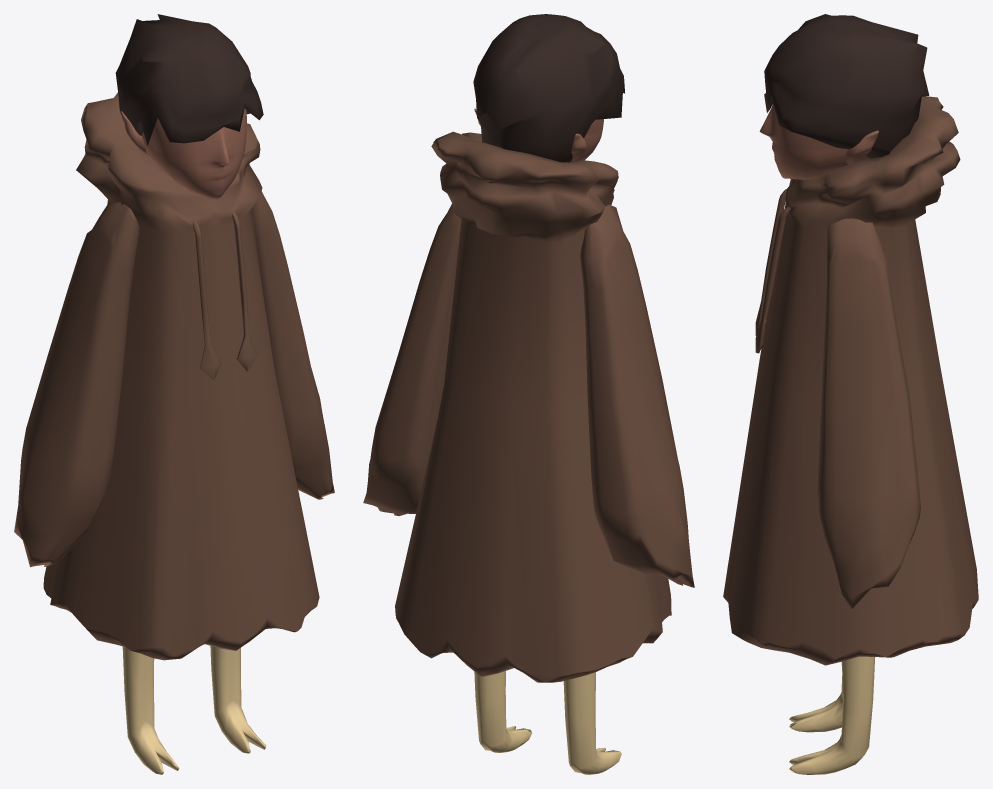
File: playercharacter.fbx
The picture shows the model from 3 angles, left to right: view 1: azimuth 30°, elevation 25°; view 2: azimuth 150°, elevation 25°; view 3: azimuth 270°, elevation 25°; orthographic projection. The views are drawn at different scales.
Parts seen in each view (by area): view 1: def:def2:def:def:def:def2:def:def:polySurface11, def:def2:def:def:polySurface14, def:def2:def:def:def:def2:def:def:polySurface18, def:def2:def:def:polySurface17, def:def2:def:def:def:def2:def:def:polySurface15; view 2: def:def2:def:def:def:def2:def:def:polySurface11, def:def2:def:def:polySurface14, def:def2:def:def:def:def2:def:def:polySurface18, def:def2:def:def:polySurface17; view 3: def:def2:def:def:def:def2:def:def:polySurface11, def:def2:def:def:polySurface14, def:def2:def:def:def:def2:def:def:polySurface18, def:def2:def:def:polySurface17, def:def2:def:def:def:def2:def:def:polySurface15.
Boxes of the visible parts, x1,y1,x2,y2 form: def:def2:def:def:def:def2:def:def:polySurface11: (14, 92, 334, 660); def:def2:def:def:polySurface14: (115, 14, 263, 145); def:def2:def:def:def:def2:def:def:polySurface18: (122, 646, 266, 774); def:def2:def:def:polySurface17: (121, 109, 246, 200); def:def2:def:def:def:def2:def:def:polySurface15: (192, 212, 258, 379); def:def2:def:def:def:def2:def:def:polySurface11: (363, 131, 694, 682); def:def2:def:def:polySurface14: (473, 14, 624, 162); def:def2:def:def:def:def2:def:def:polySurface18: (474, 671, 621, 774); def:def2:def:def:polySurface17: (474, 108, 603, 162); def:def2:def:def:def:def2:def:def:polySurface11: (723, 96, 978, 665); def:def2:def:def:polySurface14: (764, 14, 929, 158); def:def2:def:def:def:def2:def:def:polySurface18: (789, 656, 875, 774); def:def2:def:def:polySurface17: (759, 103, 878, 179); def:def2:def:def:def:def2:def:def:polySurface15: (755, 189, 790, 353).
Size of the model in its own units: 2.55 by 5.74 by 1.84.
